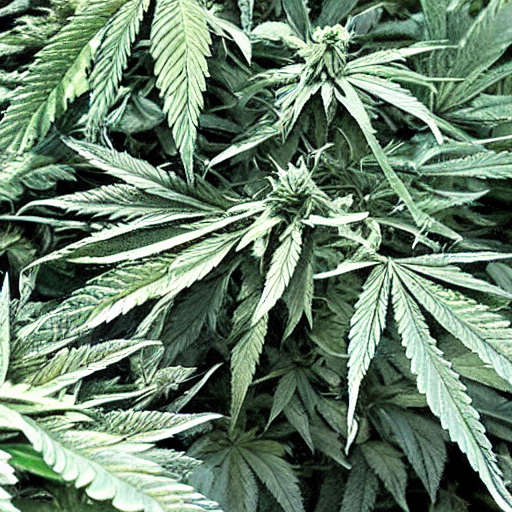Marijuana Plant: (81, 132, 512, 461)
